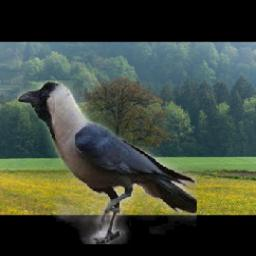Crow: (17, 81, 197, 245)
